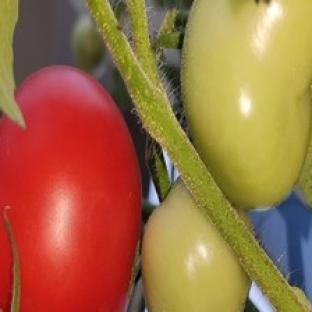Tomato: (0, 67, 140, 311), (143, 182, 249, 311), (72, 14, 105, 73)
